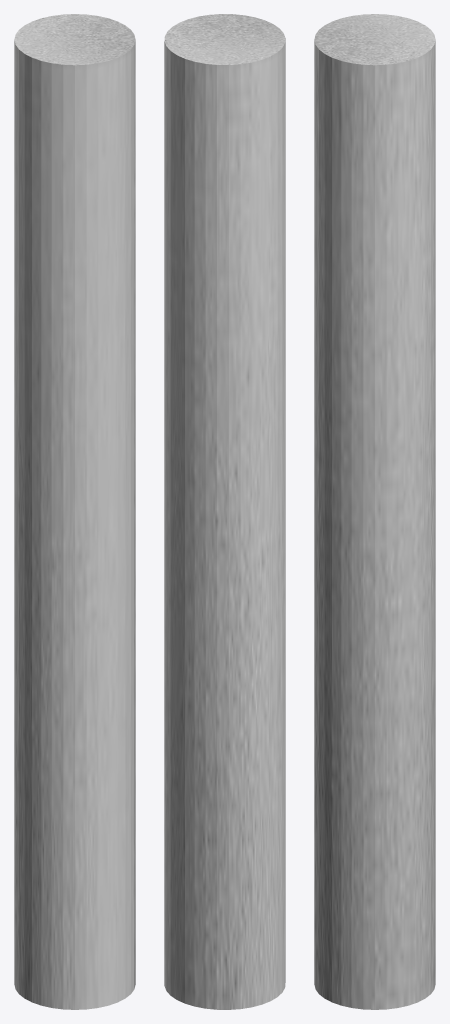
The model's file is Cilindros.fbx.
The picture shows the model from 3 angles, left to right: view 1: azimuth 90°, elevation 25°; view 2: azimuth 150°, elevation 25°; view 3: azimuth 270°, elevation 25°; orthographic projection.
Visible parts, largest first — view 1: Cylinder; view 2: Cylinder; view 3: Cylinder.
Part boxes in pixels (x1,y1,x2,y2): Cylinder: [14, 14, 135, 1009]; Cylinder: [164, 14, 285, 1009]; Cylinder: [314, 14, 435, 1009].
Bounding box in the file's own units: 74.48 × 640 × 74.48.
